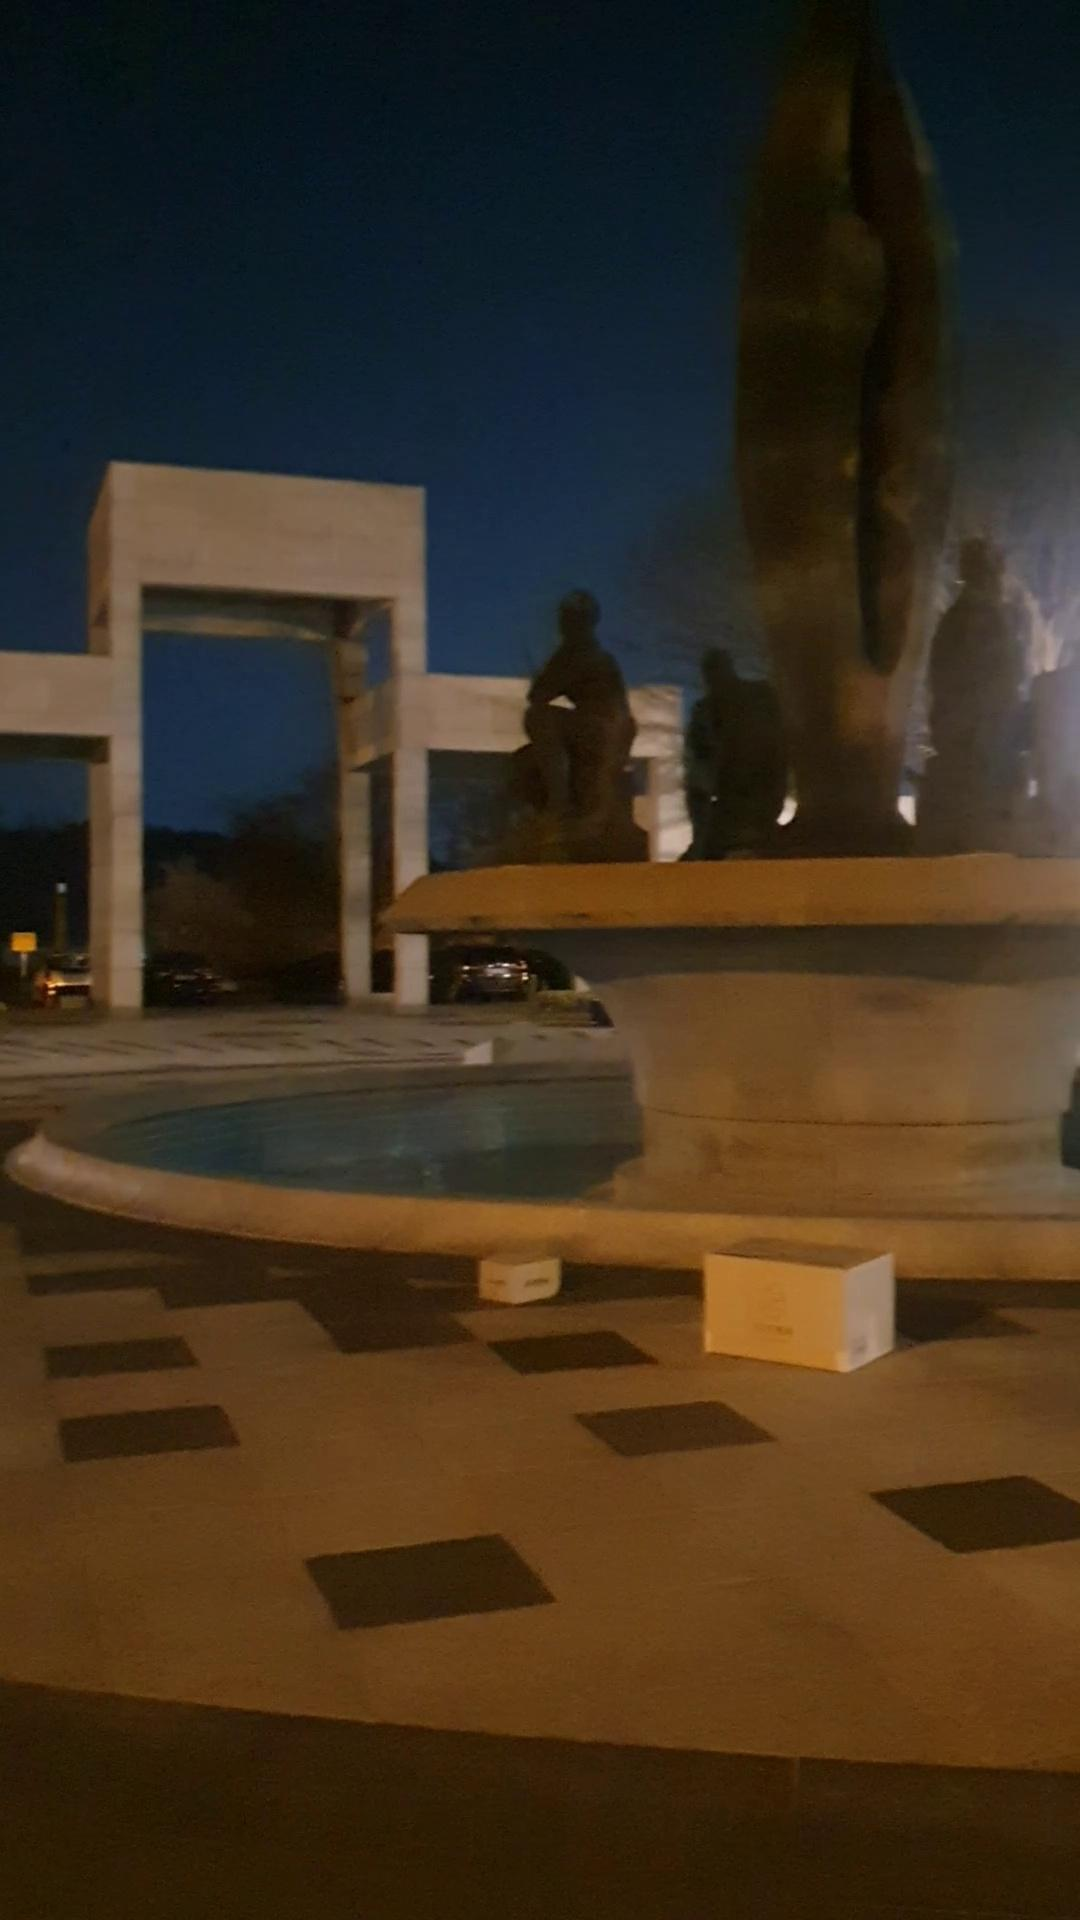Box: (698, 1222, 891, 1379), (462, 1238, 575, 1331)
